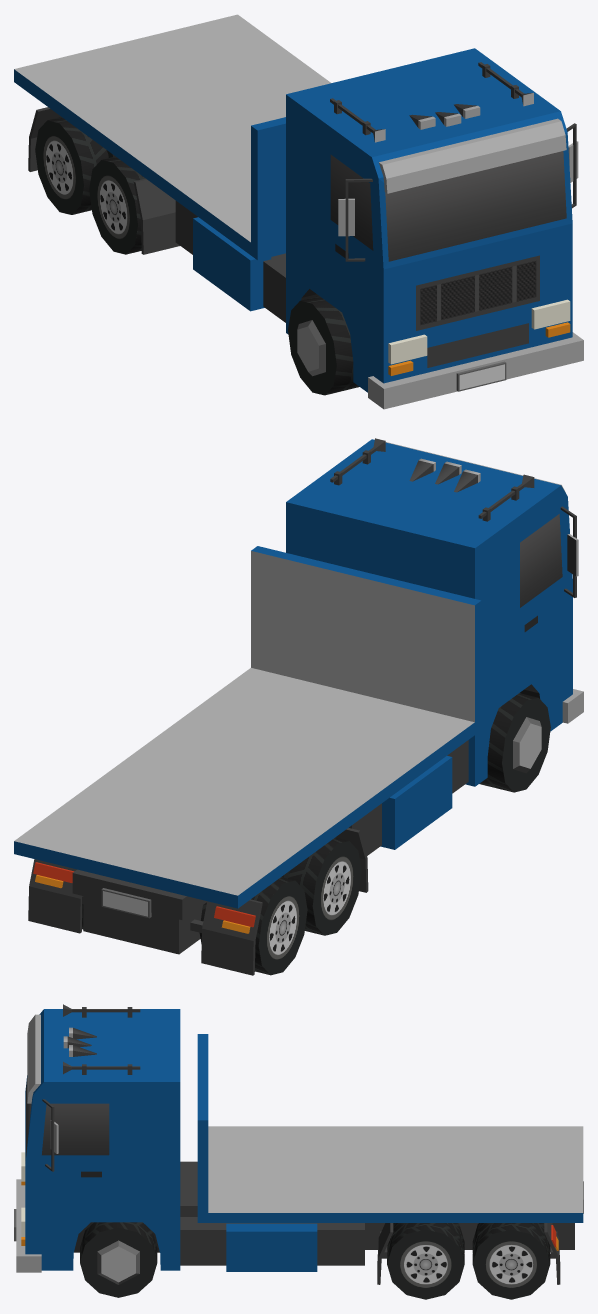
Rendered from TruckEuropeanD.fbx.
3 views of the same model, one above another, from view 1: azimuth 30°, elevation 25°; view 2: azimuth 150°, elevation 25°; view 3: azimuth 270°, elevation 25° (orthographic). The views are drawn at different scales.
Parts seen in each view (by area): view 1: TruckEuropeanD, TireFR, TireBRY, TireBRX; view 2: TruckEuropeanD, TireFR, TireBRX, TireBRY; view 3: TruckEuropeanD, TireBLY, TireBLX, TireFL.
Part boxes in pixels (bbox=[...]): TruckEuropeanD: bbox=[14, 14, 583, 409]; TireFR: bbox=[288, 296, 359, 395]; TireBRY: bbox=[35, 117, 115, 214]; TireBRX: bbox=[89, 156, 145, 254]; TruckEuropeanD: bbox=[14, 438, 583, 975]; TireFR: bbox=[479, 693, 550, 792]; TireBRX: bbox=[281, 837, 361, 935]; TireBRY: bbox=[199, 877, 307, 975]; TruckEuropeanD: bbox=[14, 1004, 583, 1284]; TireBLY: bbox=[472, 1223, 550, 1299]; TireBLX: bbox=[387, 1223, 464, 1299]; TireFL: bbox=[80, 1222, 157, 1297].
Size of the model in its own units: 241 by 269 by 626.
